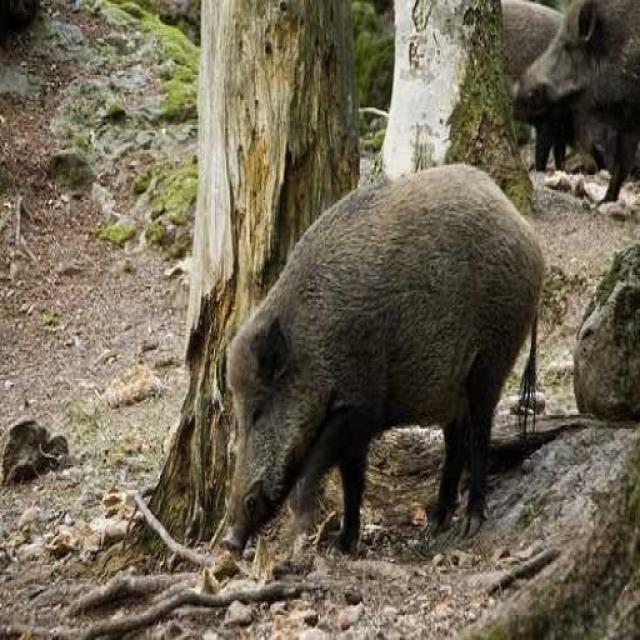pig: (192, 113, 566, 594)
